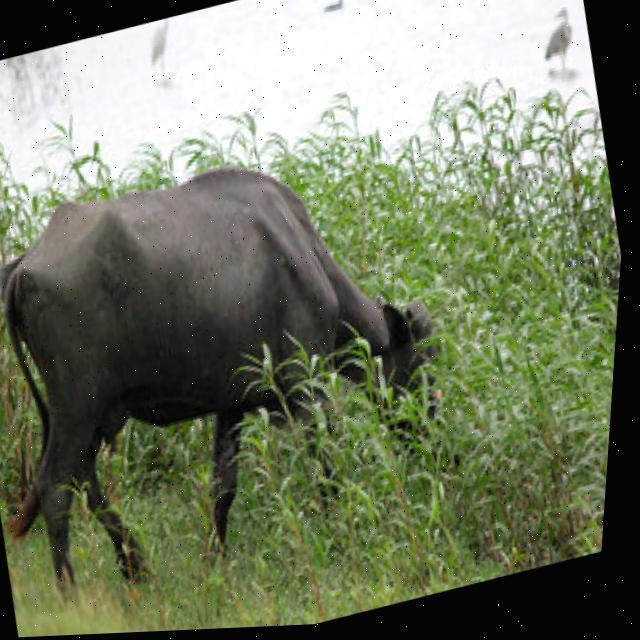Buffalo: (0, 104, 490, 623)
